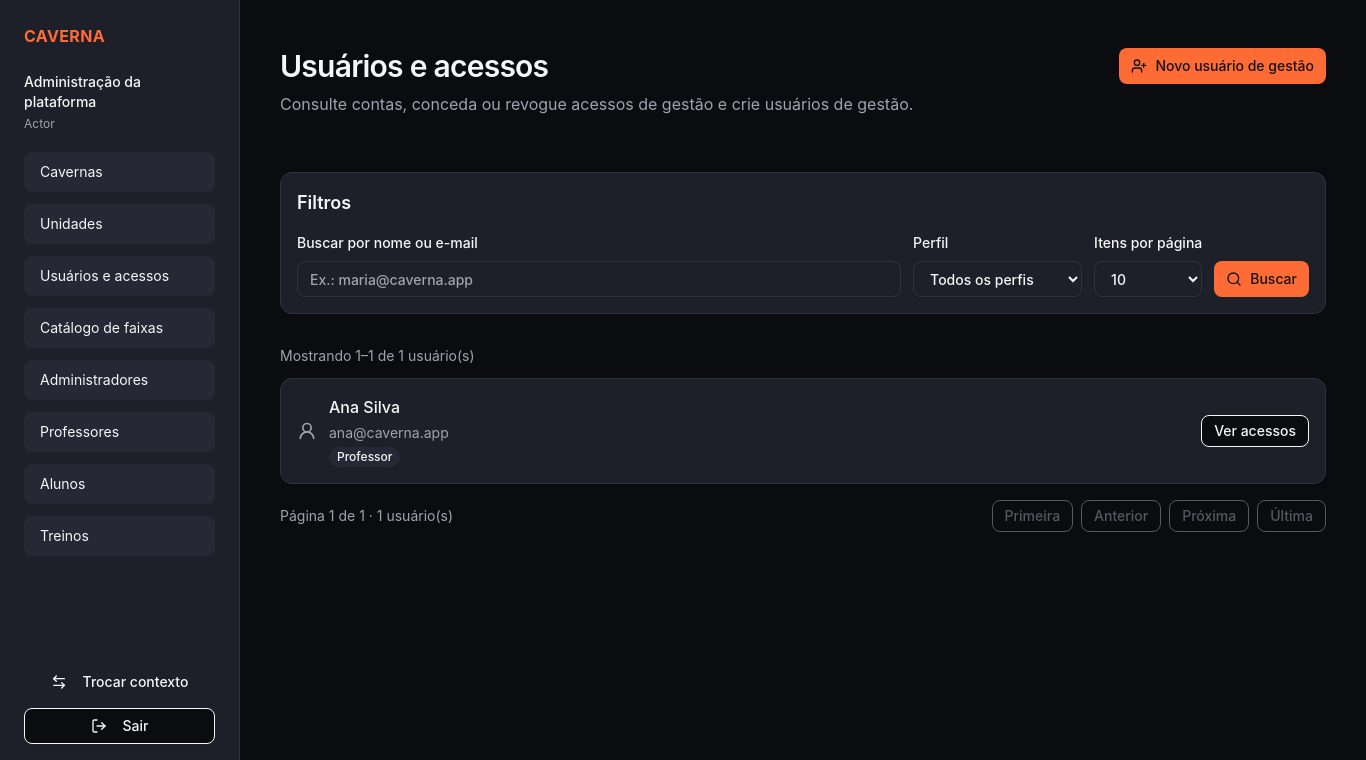
Test: PlatformUsersPage › locks every action for the signed-in user
Click the button "Ver acessos" at coordinates (1255, 431), box [1201,415,1309,447]
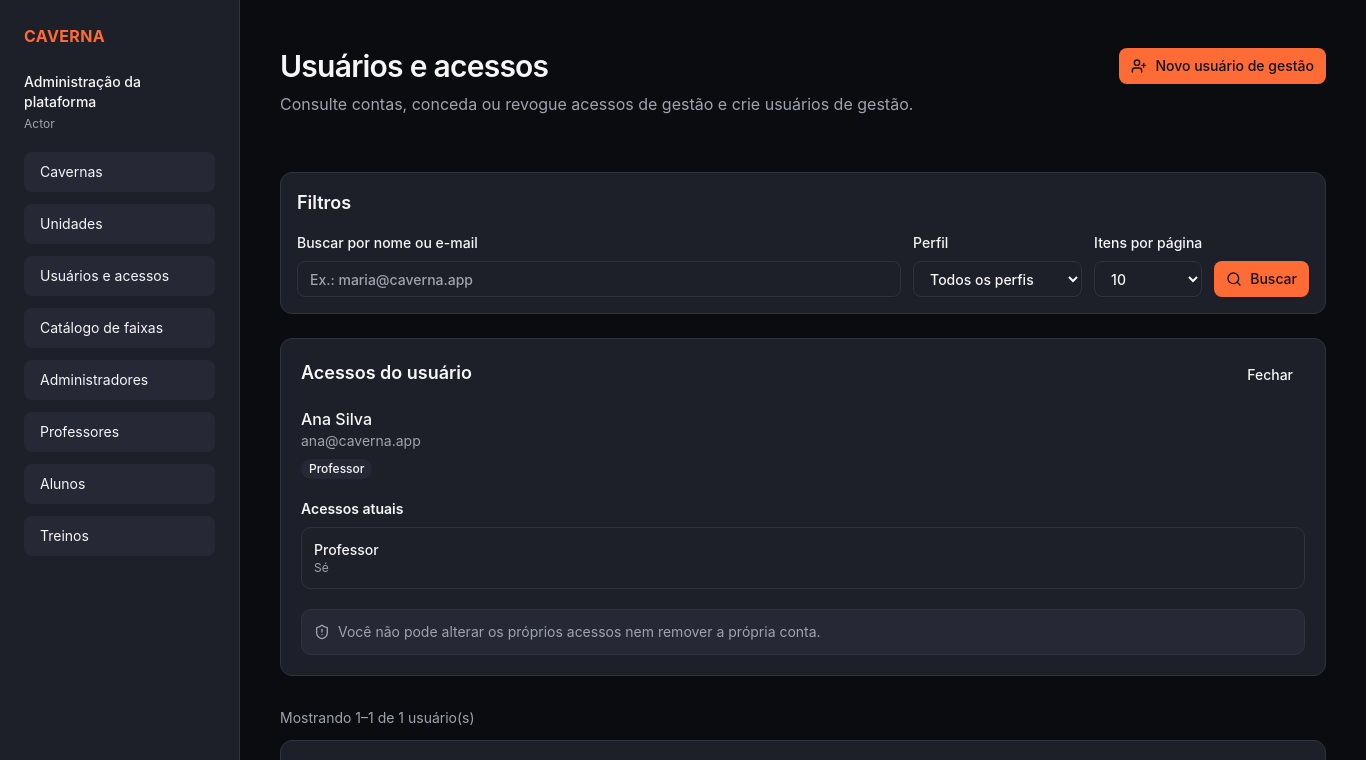
Now the text "próprios acessos" is shown, box [338,623,821,640]
